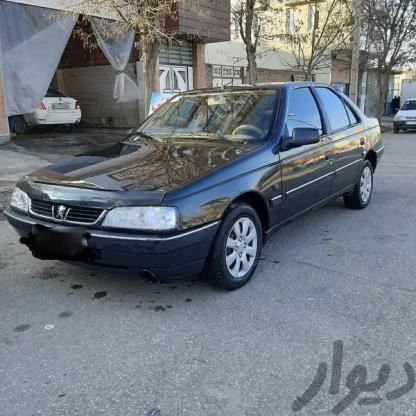Car: (9, 82, 381, 291), (3, 75, 117, 152), (392, 94, 416, 147)
